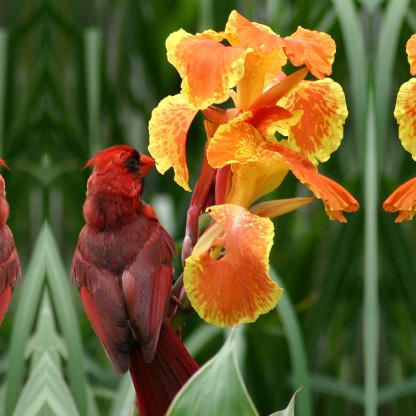Bird: (74, 110, 214, 384)
